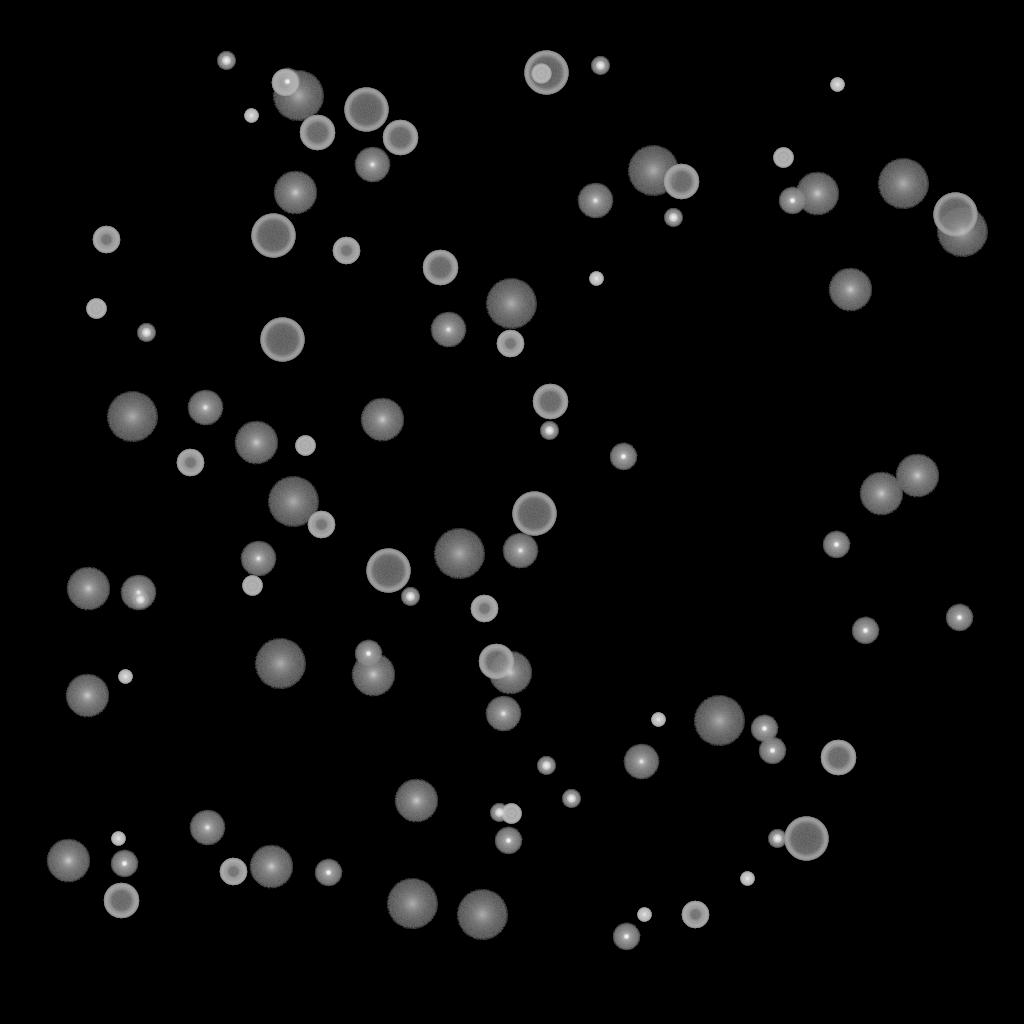depth:-10: (945, 604, 973, 632), (354, 640, 382, 668), (110, 850, 138, 878), (314, 859, 342, 887), (822, 531, 850, 559), (609, 443, 637, 471), (778, 187, 806, 215), (612, 923, 640, 951), (273, 68, 301, 96), (758, 737, 786, 765), (494, 827, 522, 855), (750, 715, 778, 743), (851, 617, 879, 645)
depth:-20: (490, 804, 508, 822), (664, 209, 682, 227), (540, 422, 558, 440), (591, 57, 609, 75), (537, 757, 555, 775), (137, 324, 155, 342), (768, 830, 786, 848), (401, 588, 419, 606), (217, 52, 235, 70), (131, 591, 149, 609), (562, 790, 580, 808)
depth:-30: (111, 832, 125, 846), (651, 713, 665, 727), (244, 109, 258, 123), (740, 872, 754, 886), (118, 670, 132, 684), (637, 908, 651, 922), (830, 78, 844, 92), (589, 272, 603, 286)
depth:-40: (531, 64, 551, 84), (86, 299, 106, 319), (501, 804, 521, 824), (242, 576, 262, 596), (295, 436, 315, 456), (773, 148, 793, 168)
depth:-50: (271, 69, 299, 97), (496, 330, 524, 358), (681, 901, 709, 929), (470, 595, 498, 623), (332, 237, 360, 265), (219, 858, 247, 886), (92, 226, 120, 254), (176, 449, 204, 477), (307, 511, 335, 539)
depth:-60: (382, 120, 418, 156), (299, 115, 335, 151), (820, 740, 856, 776), (478, 644, 514, 680), (422, 250, 458, 286), (663, 164, 699, 200), (532, 384, 568, 420), (103, 883, 139, 919)
depth:-70: (524, 51, 568, 95), (784, 817, 828, 861), (933, 193, 977, 237), (260, 318, 304, 362), (251, 214, 295, 258), (512, 492, 556, 536), (344, 88, 388, 132), (366, 549, 410, 593)
depth:0: (502, 533, 538, 569), (189, 810, 225, 846), (187, 390, 223, 426), (623, 744, 659, 780), (120, 575, 156, 611), (354, 147, 390, 183), (240, 541, 276, 577), (430, 312, 466, 348), (485, 696, 521, 732), (577, 183, 613, 219)
depth:10: (859, 472, 903, 516), (488, 651, 532, 695), (828, 268, 872, 312), (394, 779, 438, 823), (360, 398, 404, 442), (234, 421, 278, 465), (273, 171, 317, 215), (351, 653, 395, 697), (895, 454, 939, 498), (795, 172, 839, 216), (249, 845, 293, 889), (66, 567, 110, 611), (65, 674, 109, 718), (46, 839, 90, 883)
depth:20: (267, 477, 319, 527), (456, 890, 508, 940), (254, 639, 306, 689), (106, 392, 158, 442), (485, 279, 537, 329), (627, 146, 679, 196), (693, 696, 745, 746), (936, 207, 988, 257), (272, 71, 324, 121), (433, 529, 485, 579), (877, 159, 929, 209), (386, 879, 438, 929)
